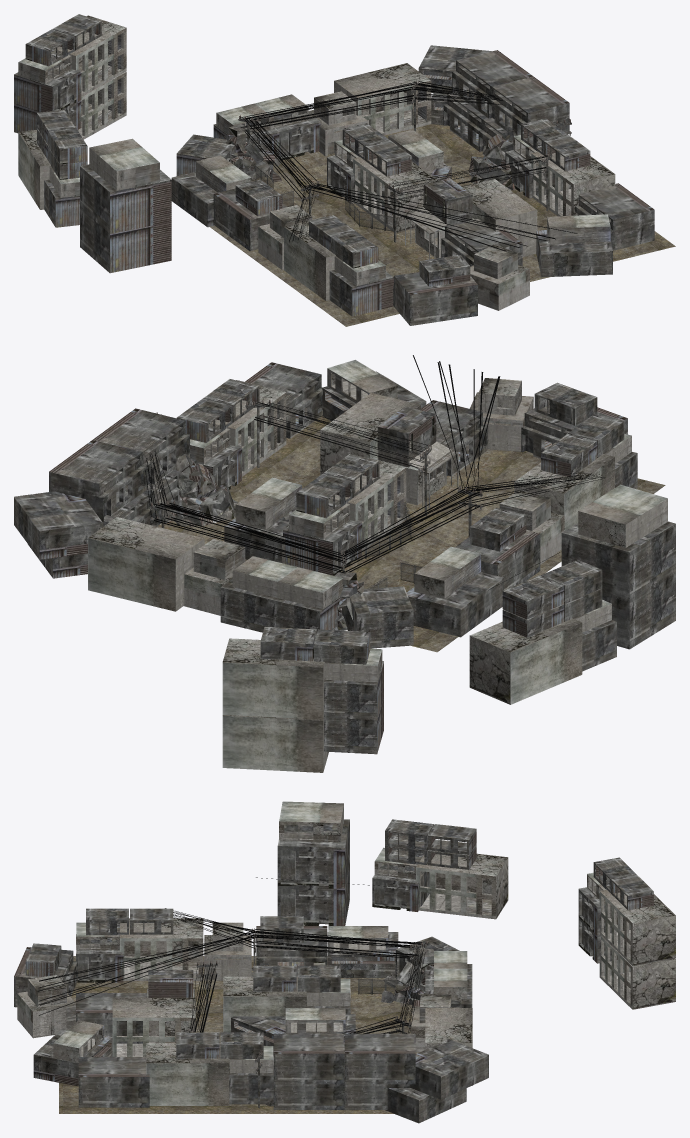
Rendered from street.glb.
3 renders of one model, top to bottom at view 1: azimuth 30°, elevation 25°; view 2: azimuth 150°, elevation 25°; view 3: azimuth 270°, elevation 25°, orthographic. The views are drawn at different scales.
Parts seen in each view (by area): view 1: Plane002_Material007_0, Cube039_Material001_0, Cube059_Material003_0, Cube061_Material003_0, Cube026_Material001_0, Cube042_Material002_0, Cube022_Material002_0, Cube014_Material002_0, Cube032_Material001_0, Cube015_Material001_0, Cube044_Material001_0, Cube047_Material001_0 (+54 smaller); view 2: Plane002_Material007_0, Cube039_Material001_0, Cube052_Material001_0, Cube047_Material001_0, Cube067_Material001_0, Cube059_Material003_0, Cube023_Material002_0, Cube041_Material003_0, Cube060_Material001_0, Cube005_Material003_0, Cube022_Material002_0, Cube032_Material001_0 (+56 smaller); view 3: Plane002_Material007_0, Cube052_Material001_0, Cube015_Material001_0, Cube_Material001_0, Cube047_Material001_0, Cube059_Material003_0, Cube022_Material002_0, Cube023_Material002_0, Cube014_Material002_0, Cube032_Material001_0, Cube041_Material003_0, Cube067_Material001_0 (+53 smaller).
Boxes of the visible parts, left/top/right/bottom form: Plane002_Material007_0: left=209, top=124, right=675, bottom=326; Cube039_Material001_0: left=334, top=63, right=431, bottom=135; Cube059_Material003_0: left=80, top=164, right=171, bottom=233; Cube061_Material003_0: left=80, top=208, right=171, bottom=273; Cube026_Material001_0: left=353, top=157, right=436, bottom=232; Cube042_Material002_0: left=393, top=272, right=477, bottom=325; Cube022_Material002_0: left=488, top=76, right=569, bottom=135; Cube014_Material002_0: left=575, top=183, right=654, bottom=250; Cube032_Material001_0: left=462, top=179, right=537, bottom=256; Cube015_Material001_0: left=531, top=151, right=615, bottom=216; Cube044_Material001_0: left=470, top=244, right=529, bottom=310; Cube047_Material001_0: left=54, top=15, right=126, bottom=96; Plane002_Material007_0: left=158, top=416, right=665, bottom=652; Cube039_Material001_0: left=88, top=517, right=204, bottom=611; Cube052_Material001_0: left=469, top=618, right=582, bottom=704; Cube047_Material001_0: left=222, top=638, right=325, bottom=719; Cube067_Material001_0: left=222, top=715, right=328, bottom=772; Cube059_Material003_0: left=561, top=521, right=675, bottom=602; Cube023_Material002_0: left=49, top=440, right=146, bottom=522; Cube041_Material003_0: left=14, top=491, right=103, bottom=559; Cube060_Material001_0: left=578, top=484, right=667, bottom=547; Cube005_Material003_0: left=406, top=572, right=503, bottom=637; Cube022_Material002_0: left=92, top=408, right=189, bottom=489; Cube032_Material001_0: left=320, top=393, right=420, bottom=474; Plane002_Material007_0: left=59, top=956, right=418, bottom=1113; Cube052_Material001_0: left=416, top=853, right=508, bottom=919; Cube015_Material001_0: left=146, top=1043, right=229, bottom=1105; Cube_Material001_0: left=120, top=918, right=203, bottom=980; Cube047_Material001_0: left=599, top=890, right=675, bottom=966; Cube059_Material003_0: left=277, top=819, right=349, bottom=888; Cube022_Material002_0: left=273, top=1033, right=344, bottom=1084; Cube023_Material002_0: left=345, top=1033, right=415, bottom=1084; Cube014_Material002_0: left=78, top=1057, right=149, bottom=1107; Cube032_Material001_0: left=112, top=997, right=195, bottom=1056; Cube041_Material003_0: left=409, top=1039, right=488, bottom=1099; Cube067_Material001_0: left=599, top=936, right=675, bottom=1009.
Size of the model in its own units: 22.76 by 5.51 by 28.
6 materials, 5 textured.
